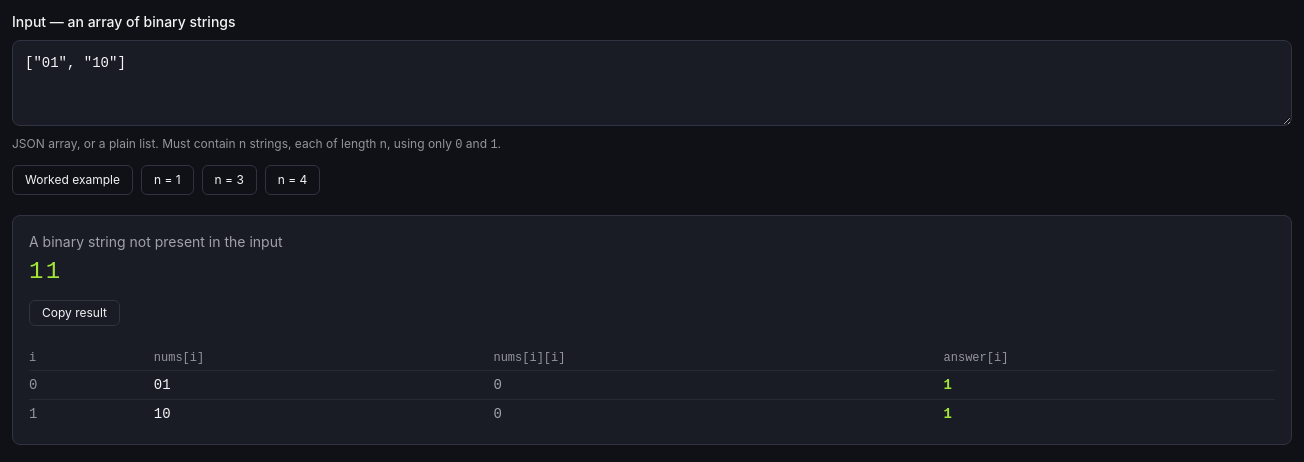
BinaryStringDemo › loads an example when its button is pressed
The width and height of the screenshot is (1304, 462).
What coordinates should you click on to do the following:
click the button "n = 1"
I would click on:
 (167, 180)
Its box is [141, 165, 194, 195].
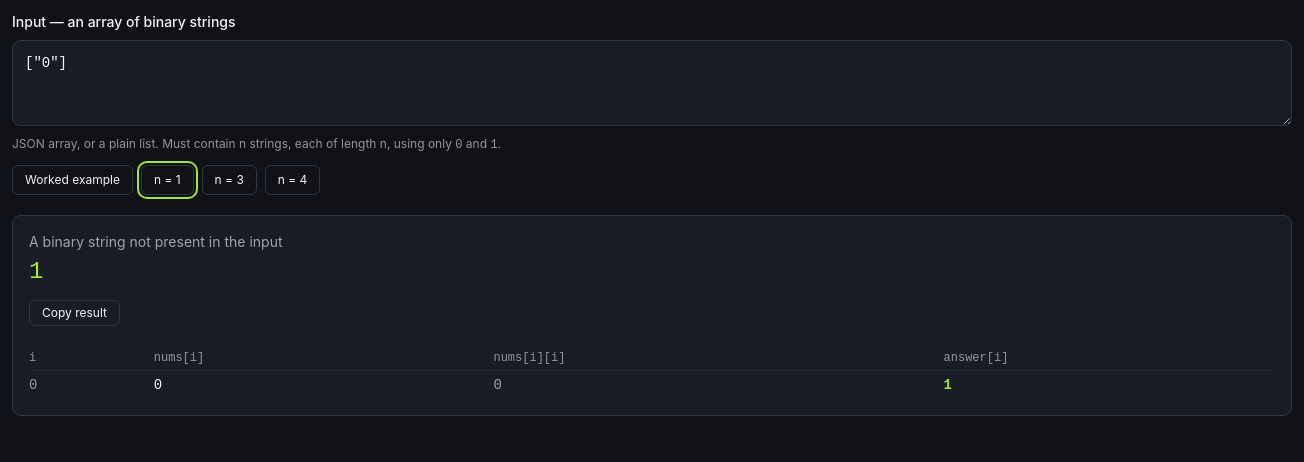
Expected: the message shows "1", [29, 258, 46, 285]
Now the text box labelled "Input — an array of binary strings" holds "[\"0\"]", box [12, 40, 1292, 126]
